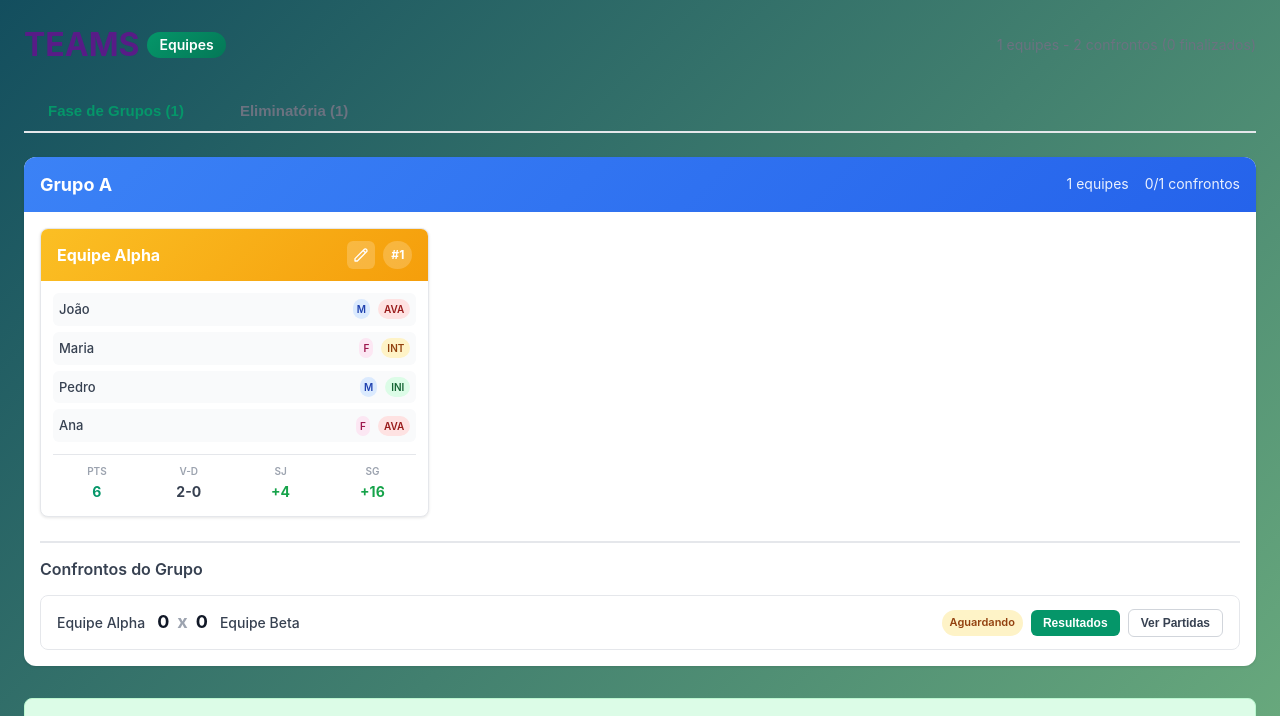
Test: ChavesTeams › tabs de navegação › deve alternar entre fase de grupos e eliminatória
Expected: the button "Fase de Grupos (1)" is shown, [24,90,208,133]
// Clicar na aba eliminatória
Click the button "Eliminatória (1)". click: (294, 111)
box: [216,90,372,133]
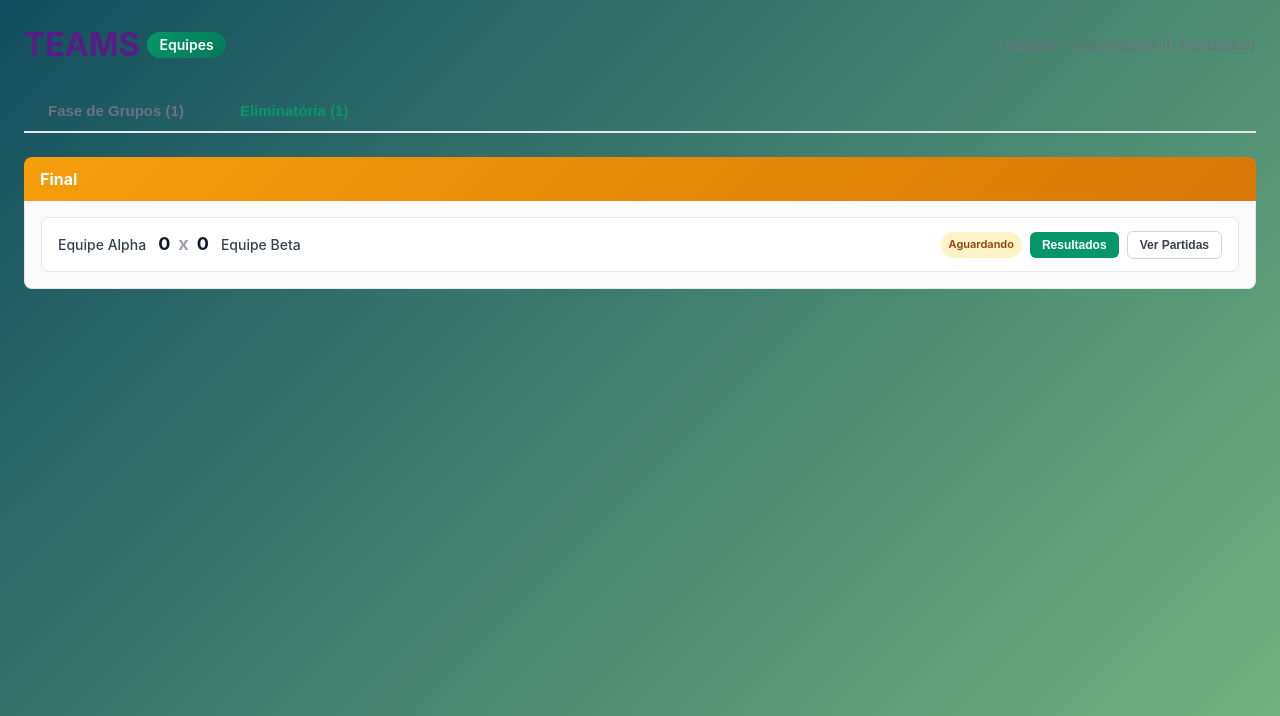
Result: the heading "Final" is shown at [40,169,77,189]
